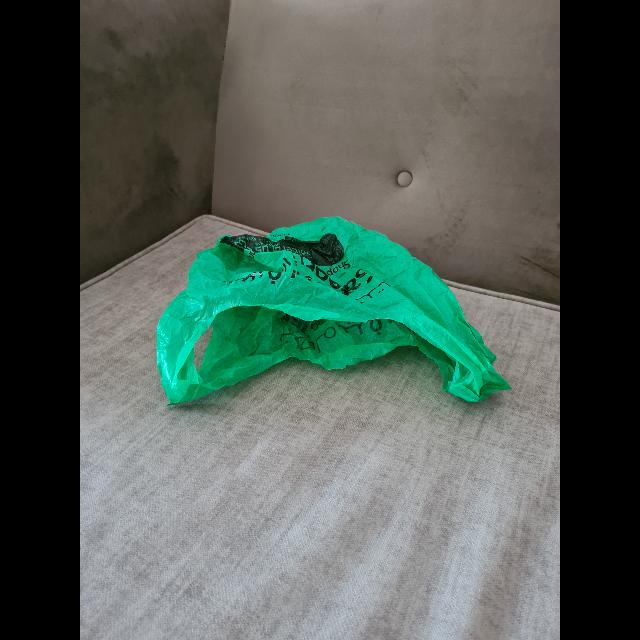plastic_bag: (146, 198, 518, 424)
